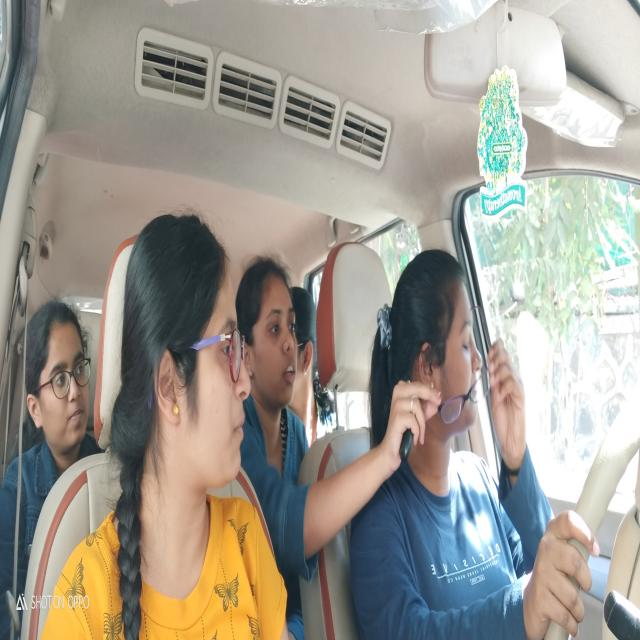drowsy: (390, 247, 490, 449)
person: (122, 213, 251, 501), (24, 298, 93, 460), (237, 262, 308, 414), (293, 283, 322, 422)
